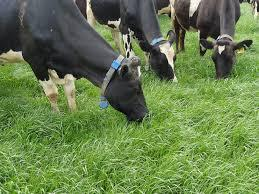cow: (0, 0, 150, 126), (90, 0, 179, 85), (172, 0, 253, 79)
